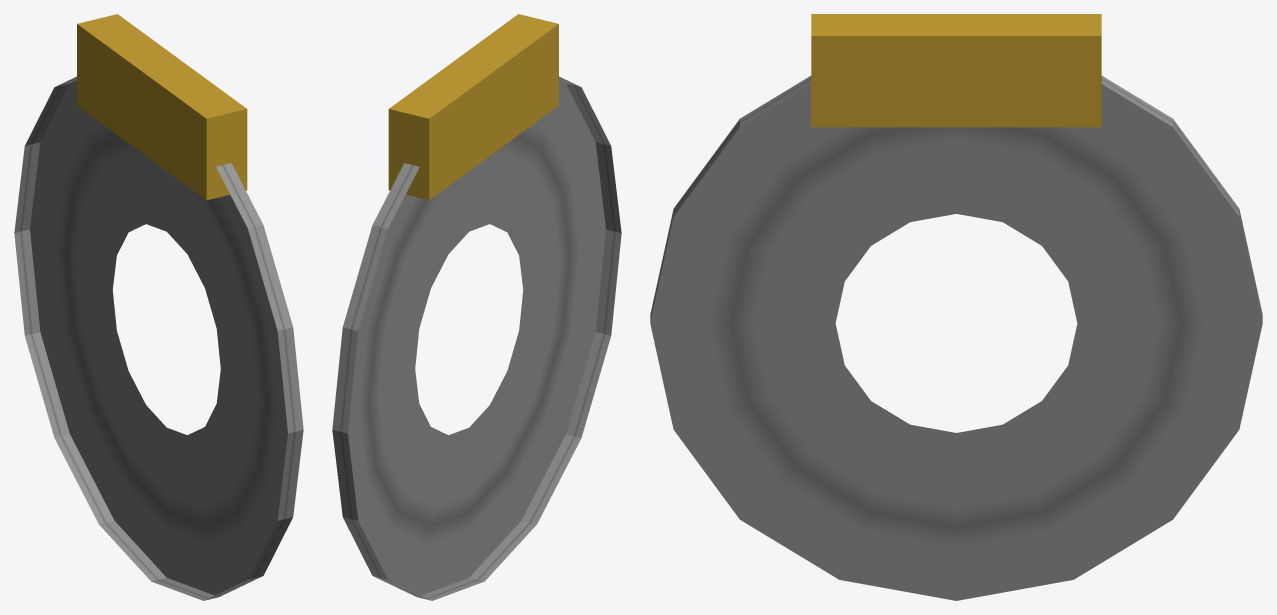
The model's file is brake_04_big_tuner_gold.obj.
The picture shows the model from 3 angles, left to right: view 1: azimuth 30°, elevation 25°; view 2: azimuth 150°, elevation 25°; view 3: azimuth 270°, elevation 25°; orthographic projection. The views are drawn at different scales.
Visible parts, largest first — view 1: brake_04_big_tuner_gold; view 2: brake_04_big_tuner_gold; view 3: brake_04_big_tuner_gold.
Boxes of the visible parts, bbox=[...] form: brake_04_big_tuner_gold: bbox=[14, 14, 303, 600]; brake_04_big_tuner_gold: bbox=[332, 14, 621, 600]; brake_04_big_tuner_gold: bbox=[650, 14, 1262, 600].
Size of the model in its own units: 0.0406 by 0.4906 by 0.475.
